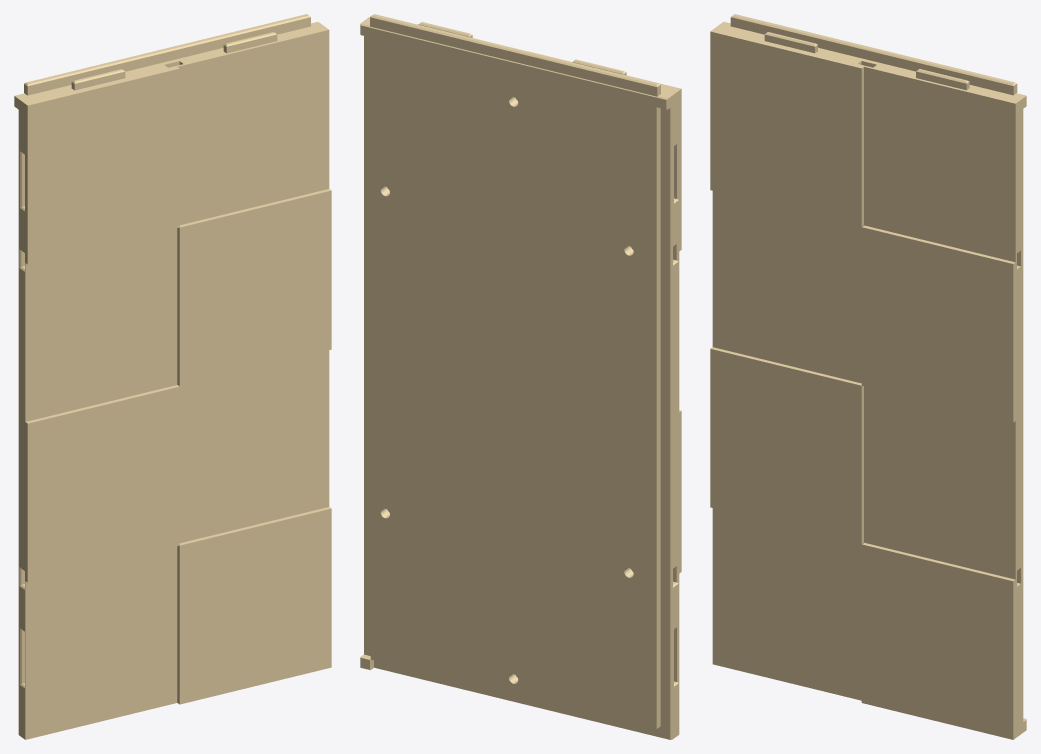
Rendered from .panel_south_gh_light_body.step.glb.
3 renders of one model, left to right at view 1: azimuth 30°, elevation 25°; view 2: azimuth 150°, elevation 25°; view 3: azimuth 330°, elevation 25°, orthographic.
Visible parts, largest first — view 1: o1; view 2: o1; view 3: o1.
Boxes of the visible parts, left/top/right/bottom form: o1: left=14, top=14, right=331, bottom=739; o1: left=360, top=14, right=681, bottom=739; o1: left=710, top=14, right=1026, bottom=739.
Bounding box in the file's own units: 0.12 × 0.244 × 0.0096.
